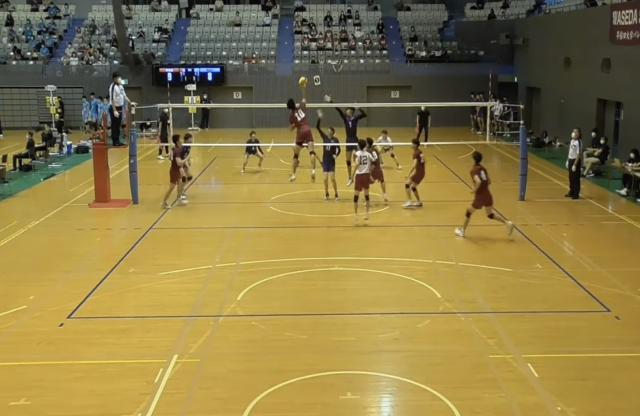spike: (283, 74, 320, 185)
